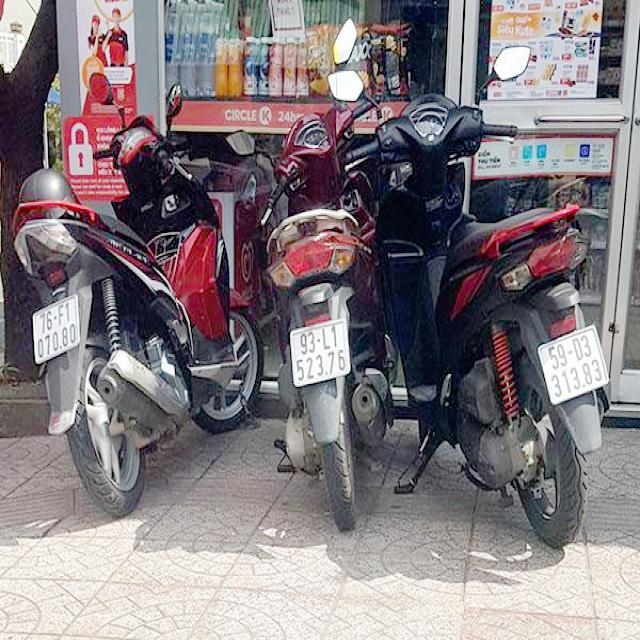license_plate: (539, 326, 611, 407), (32, 295, 83, 367), (293, 320, 349, 385)
